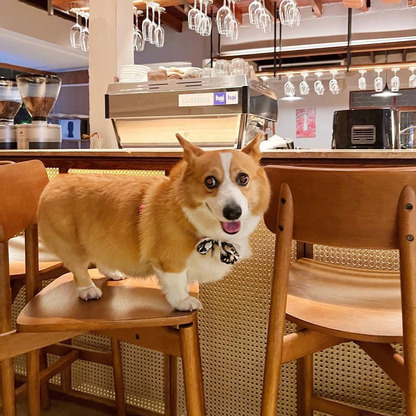Corgi: (27, 128, 282, 303)
